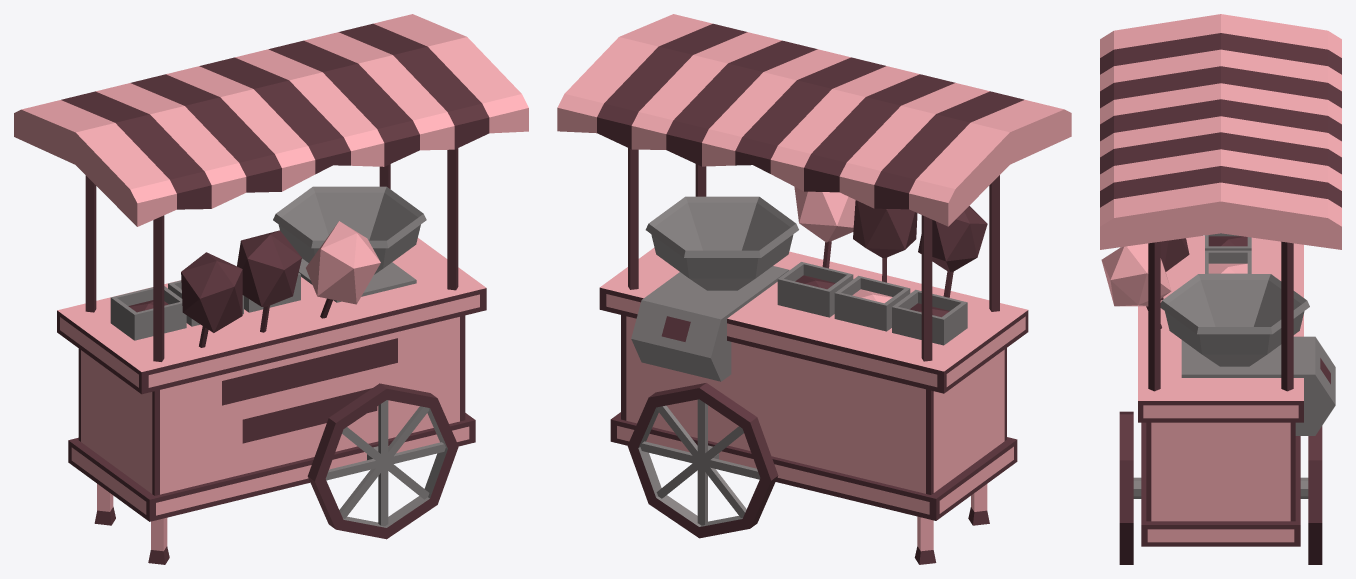
Rendered from stand-cotton-big.fbx.
3 views of the same model, side by side, from view 1: azimuth 30°, elevation 25°; view 2: azimuth 150°, elevation 25°; view 3: azimuth 270°, elevation 25° (orthographic).
Visible parts, largest first — view 1: stand-cotton-big; view 2: stand-cotton-big; view 3: stand-cotton-big.
Part boxes in pixels (x1,y1,x2,y2): stand-cotton-big: (14, 14, 528, 564); stand-cotton-big: (557, 14, 1071, 564); stand-cotton-big: (1100, 14, 1341, 564).
Size of the model in its own units: 2.06 by 2.17 by 1.12.
